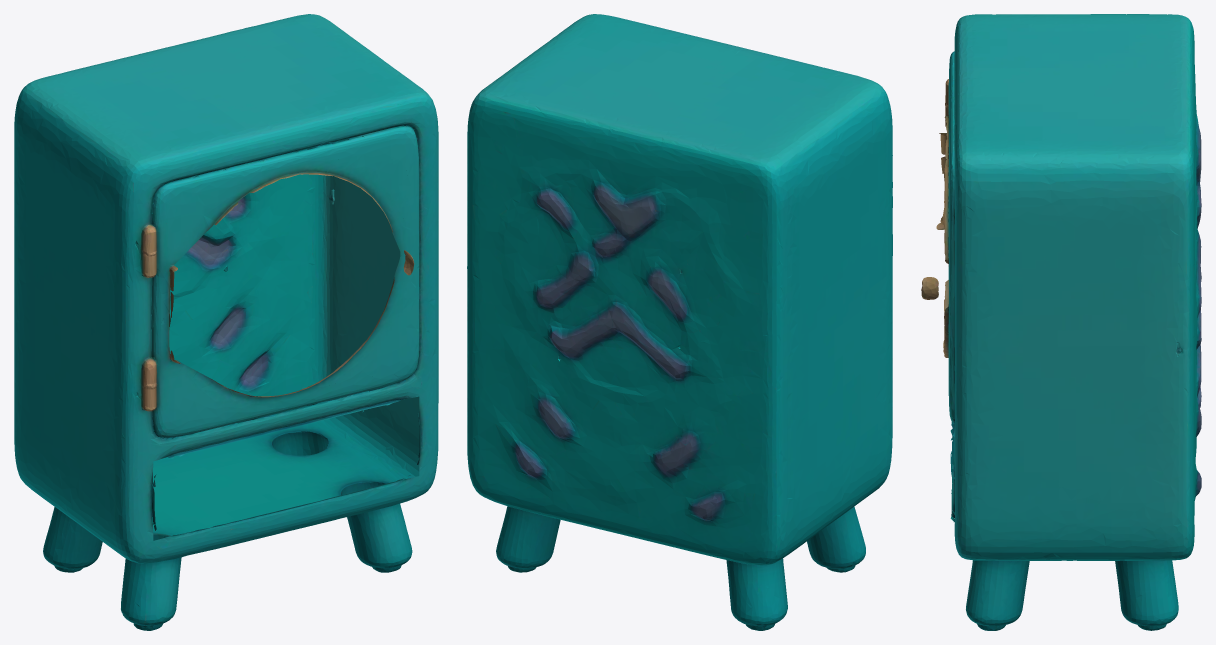
Rendered from body.glb.
The picture shows the model from 3 angles, left to right: view 1: azimuth 30°, elevation 25°; view 2: azimuth 150°, elevation 25°; view 3: azimuth 270°, elevation 25°; orthographic projection.
Visible parts, largest first — view 1: source_surface_0; view 2: source_surface_0; view 3: source_surface_0.
Boxes of the visible parts, bbox=[...] form: source_surface_0: bbox=[14, 14, 438, 630]; source_surface_0: bbox=[467, 14, 892, 630]; source_surface_0: bbox=[921, 14, 1201, 630].
Bounding box in the file's own units: 0.2431 × 0.35 × 0.1835.
1 material, 1 textured.
